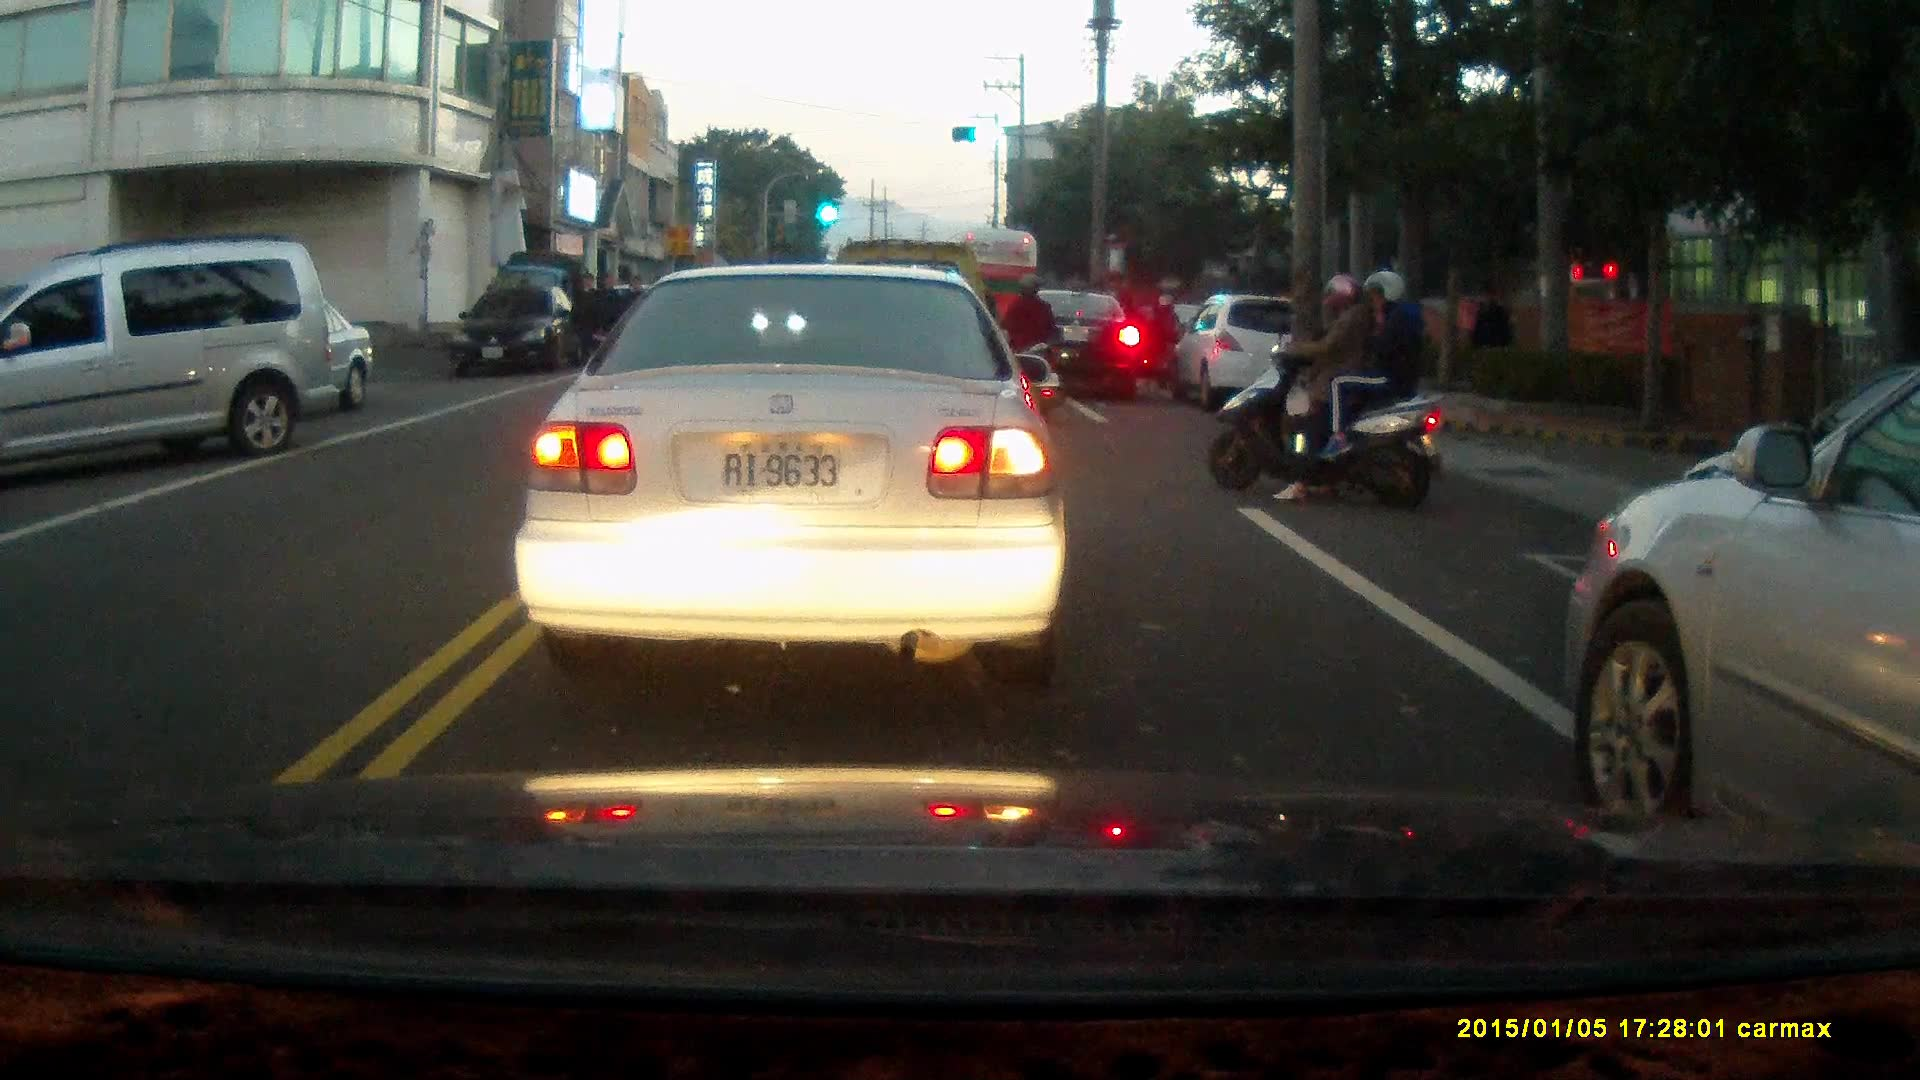pedestrian: (1464, 281, 1510, 381), (566, 271, 602, 372), (584, 273, 615, 374)
rider: (1205, 269, 1446, 517), (992, 269, 1059, 418), (1147, 291, 1184, 390)
vehicle: (514, 259, 1073, 688), (1565, 360, 1919, 852), (1, 243, 340, 481), (1177, 295, 1321, 404), (1007, 289, 1144, 401), (450, 284, 585, 381)
